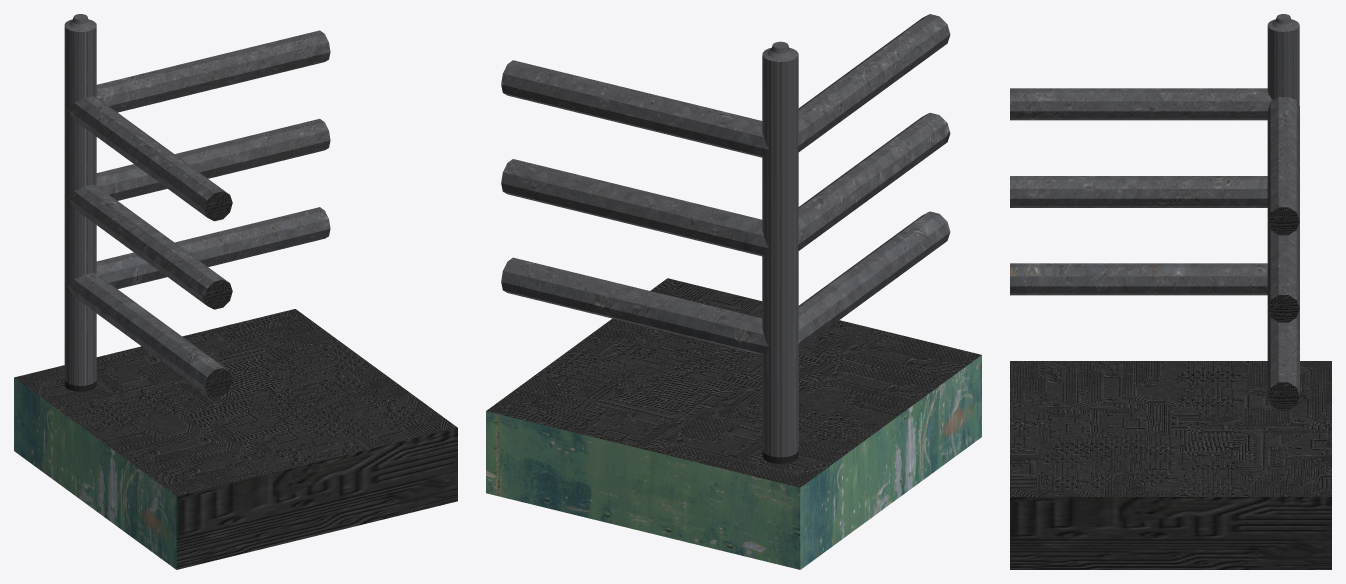
The model's file is Rail_CornerMesh.fbx.
3 renders of one model, left to right at view 1: azimuth 30°, elevation 25°; view 2: azimuth 150°, elevation 25°; view 3: azimuth 270°, elevation 25°, orthographic. The views are drawn at different scales.
Parts seen in each view (by area): view 1: pCylinder43; view 2: pCylinder43; view 3: pCylinder43.
Part boxes in pixels (x1,y1,x2,y2): pCylinder43: [14, 14, 457, 569]; pCylinder43: [486, 14, 981, 569]; pCylinder43: [1010, 14, 1331, 569].
Size of the model in its own units: 101 by 150 by 100.
Materials: 1 (1 with a texture image).
